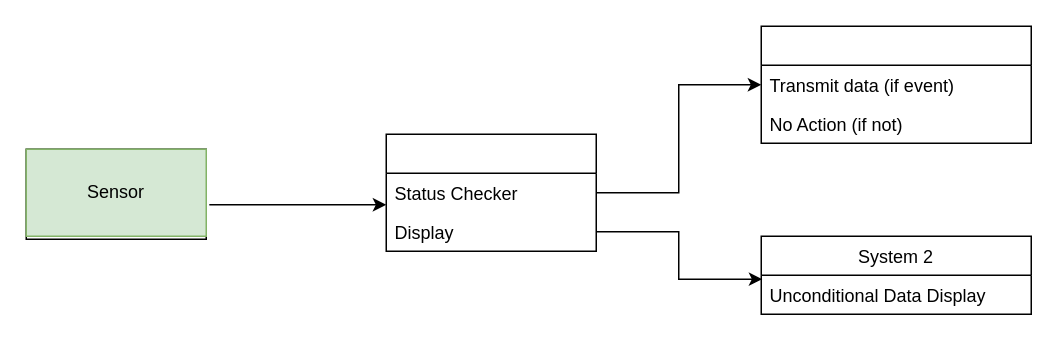
The diagram is 1058 pixels wide and 345 high, and some of its shapes have lost their labels. The box of each missing label's shape, as (x1, y1, x2, y2) in pixels:
Controller Functions: (385, 133, 596, 251)
System 1: (760, 25, 1031, 143)
